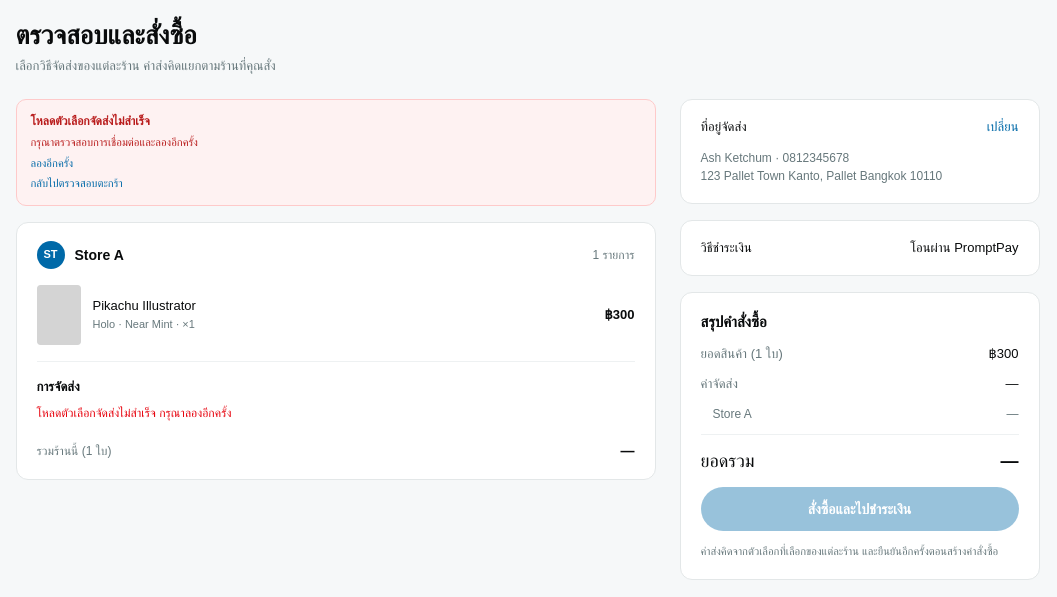
Scenario: CheckoutPage › blocks checkout on quote errors and retries explicitly
The width and height of the screenshot is (1057, 597).
Check: the text "โหลดตัวเลือกจัดส่งไม่สำเร็จ" is shown, box x1=30 y1=114 x2=150 y2=128
Check: the button "สั่งซื้อและไปชำระเงิน" is disabled, box x1=700 y1=487 x2=1018 y2=531
Click the button "ลองอีกครั้ง": click(52, 164) x1=30 y1=155 x2=73 y2=172
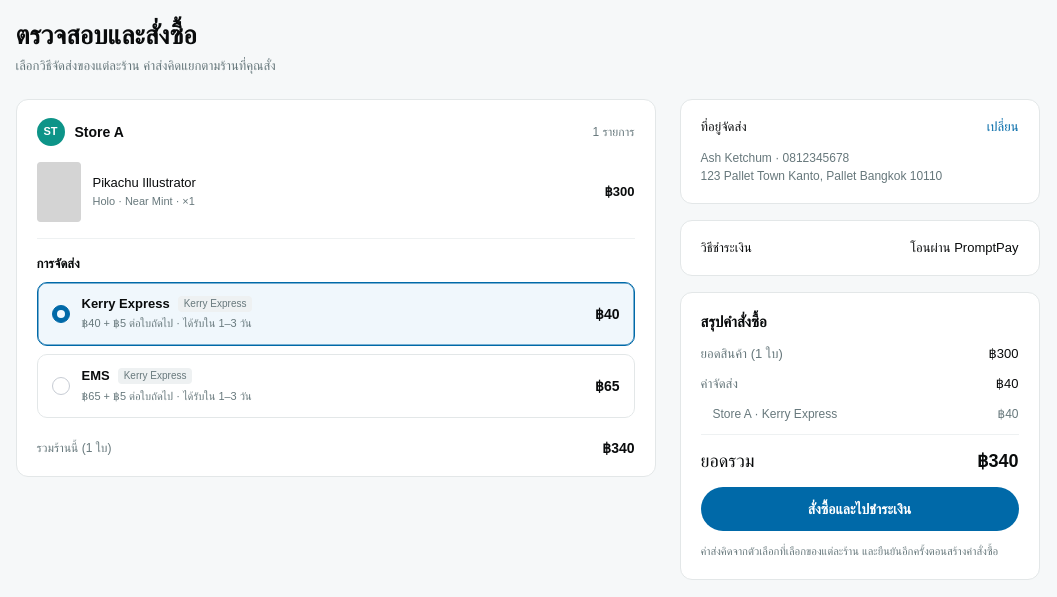
Check: the button "สั่งซื้อและไปชำระเงิน" is enabled, box x1=700 y1=487 x2=1018 y2=531
